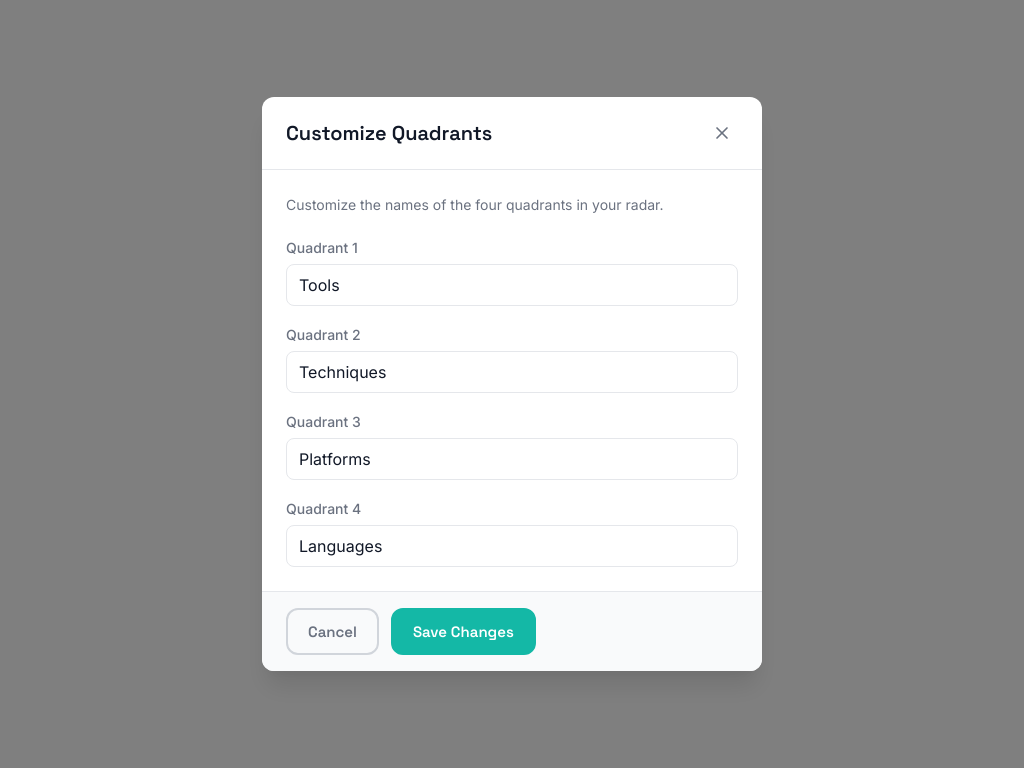
Scenario: CustomizeQuadrantsModal › Validation › should show error when quadrant name is empty
Clear the field labelled "Quadrant 1". click: (512, 285)
box: [286, 264, 738, 306]
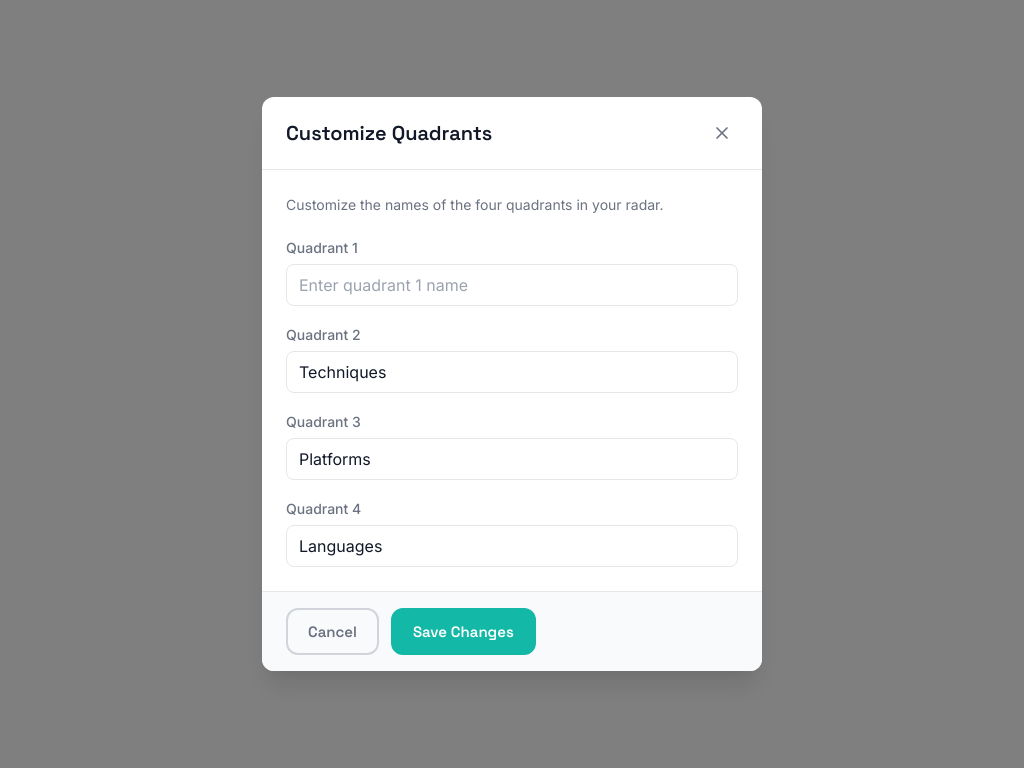
Click the button "Save Changes". click: (463, 632)
box: [391, 608, 536, 655]
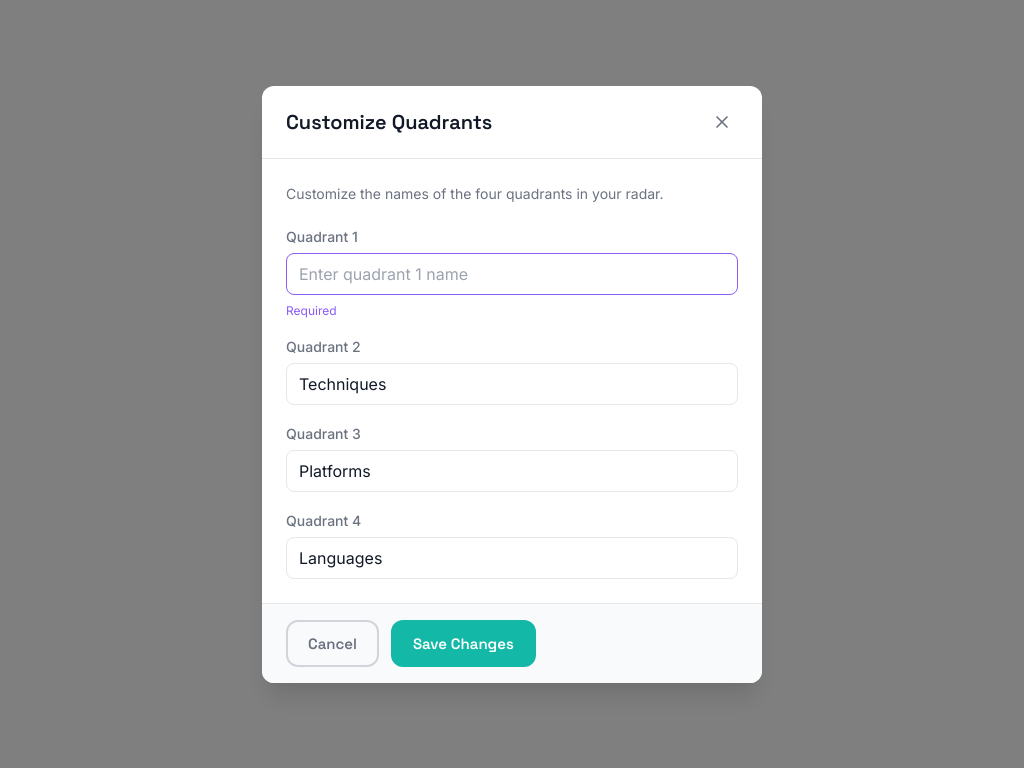
Expected: the text "Required" is shown, [286, 302, 337, 318]
